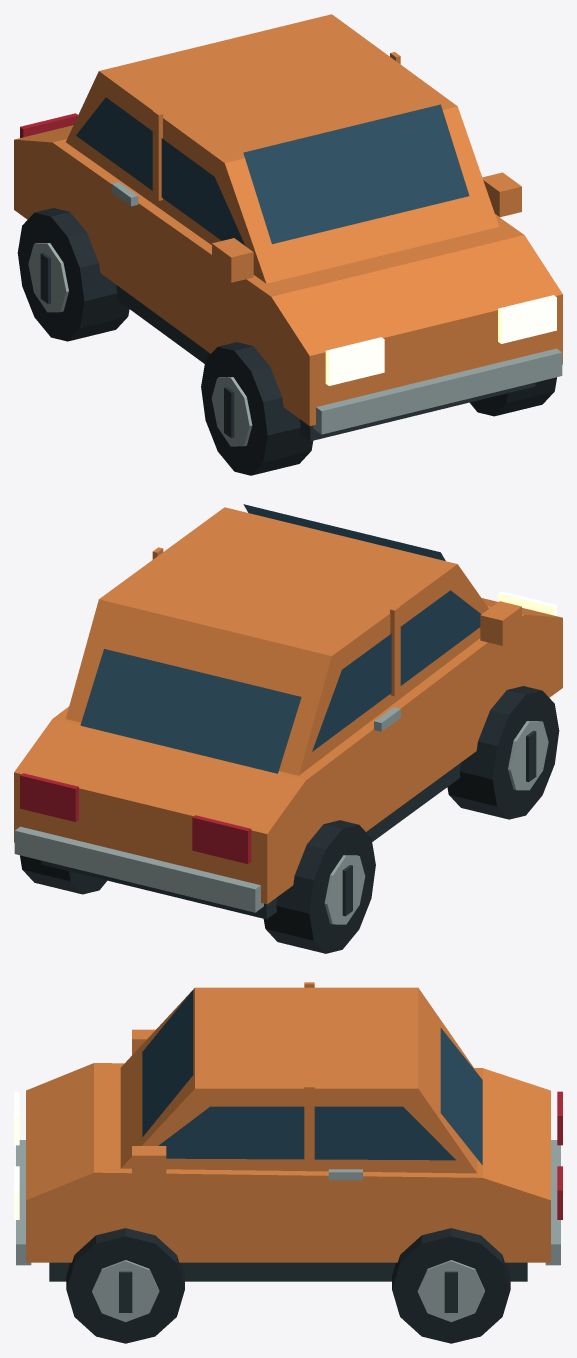
Rendered from car-compact.glb.
3 views of the same model, one above another, from view 1: azimuth 30°, elevation 25°; view 2: azimuth 150°, elevation 25°; view 3: azimuth 270°, elevation 25° (orthographic). The views are drawn at different scales.
Visible parts, largest first — view 1: CivilianRoot_orange, CivilianRoot_glass, WheelFrontLeft_rubber, WheelRearLeft_rubber, CivilianRoot_steel, CivilianRoot_lamp, CivilianRoot_dark, WheelRearLeft_steel, WheelFrontLeft_steel, WheelFrontRight_rubber, CivilianRoot_red; view 2: CivilianRoot_orange, CivilianRoot_glass, WheelRearLeft_rubber, WheelFrontLeft_rubber, CivilianRoot_steel, CivilianRoot_red, CivilianRoot_dark, WheelRearLeft_steel, WheelFrontLeft_steel, WheelRearRight_rubber, CivilianRoot_lamp; view 3: CivilianRoot_orange, CivilianRoot_glass, WheelFrontRight_rubber, WheelRearRight_rubber, CivilianRoot_dark, CivilianRoot_steel, WheelFrontRight_steel, WheelRearRight_steel, CivilianRoot_lamp, CivilianRoot_red, WheelFrontRight_dark, WheelRearRight_dark.
Part boxes in pixels (bbox=[...]): CivilianRoot_orange: bbox=[14, 14, 562, 425]; CivilianRoot_glass: bbox=[76, 97, 469, 245]; WheelFrontLeft_rubber: bbox=[201, 342, 313, 475]; WheelRearLeft_rubber: bbox=[17, 208, 129, 341]; CivilianRoot_steel: bbox=[111, 182, 562, 434]; CivilianRoot_lamp: bbox=[325, 295, 556, 385]; CivilianRoot_dark: bbox=[116, 285, 535, 441]; WheelRearLeft_steel: bbox=[28, 243, 68, 312]; WheelFrontLeft_steel: bbox=[211, 377, 252, 446]; WheelFrontRight_rubber: bbox=[469, 377, 556, 416]; CivilianRoot_red: bbox=[20, 113, 77, 137]; CivilianRoot_orange: bbox=[14, 507, 562, 904]; CivilianRoot_glass: bbox=[80, 504, 481, 773]; WheelRearLeft_rubber: bbox=[263, 820, 375, 953]; WheelFrontLeft_rubber: bbox=[447, 686, 559, 819]; CivilianRoot_steel: bbox=[14, 707, 400, 912]; CivilianRoot_red: bbox=[20, 773, 251, 863]; CivilianRoot_dark: bbox=[41, 763, 460, 919]; WheelRearLeft_steel: bbox=[324, 855, 365, 924]; WheelFrontLeft_steel: bbox=[508, 721, 548, 790]; WheelRearRight_rubber: bbox=[20, 855, 106, 894]; CivilianRoot_lamp: bbox=[498, 591, 556, 616]; CivilianRoot_orange: bbox=[26, 982, 550, 1262]; CivilianRoot_glass: bbox=[142, 990, 482, 1164]; WheelFrontRight_rubber: bbox=[66, 1228, 184, 1343]; WheelRearRight_rubber: bbox=[392, 1228, 510, 1343]; CivilianRoot_dark: bbox=[49, 1262, 527, 1281]; CivilianRoot_steel: bbox=[16, 1140, 560, 1265]; WheelFrontRight_steel: bbox=[92, 1260, 159, 1322]; WheelRearRight_steel: bbox=[417, 1260, 484, 1322]; CivilianRoot_lamp: bbox=[14, 1091, 19, 1219]; CivilianRoot_red: bbox=[557, 1091, 562, 1219]; WheelFrontRight_dark: bbox=[119, 1271, 132, 1312]; WheelRearRight_dark: bbox=[444, 1271, 457, 1312].
Bounding box in the file's own units: 1.64 × 1.43 × 2.87.
